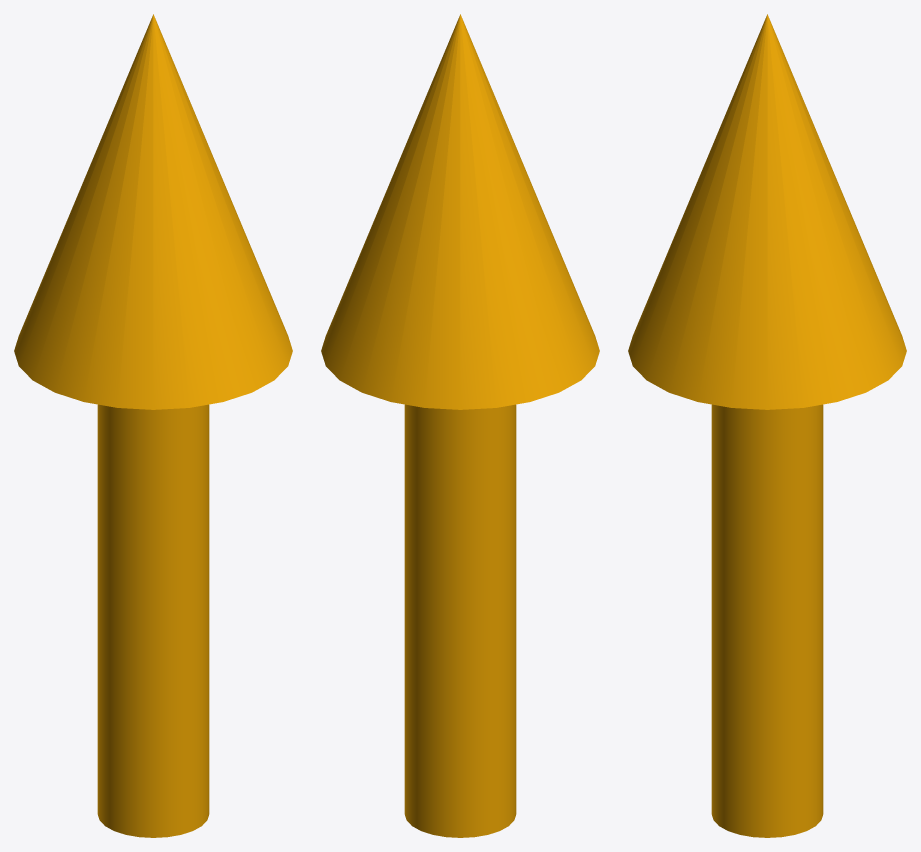
File: arrow.glb
3 views of the same model, side by side, from view 1: azimuth 30°, elevation 25°; view 2: azimuth 150°, elevation 25°; view 3: azimuth 270°, elevation 25° (orthographic).
Parts seen in each view (by area): view 1: Arrow; view 2: Arrow; view 3: Arrow.
Boxes of the visible parts, x1,y1,x2,y2 form: Arrow: [14, 14, 292, 837]; Arrow: [321, 14, 599, 837]; Arrow: [628, 14, 906, 837].
Size of the model in its own units: 0.3 by 0.95 by 0.3.
